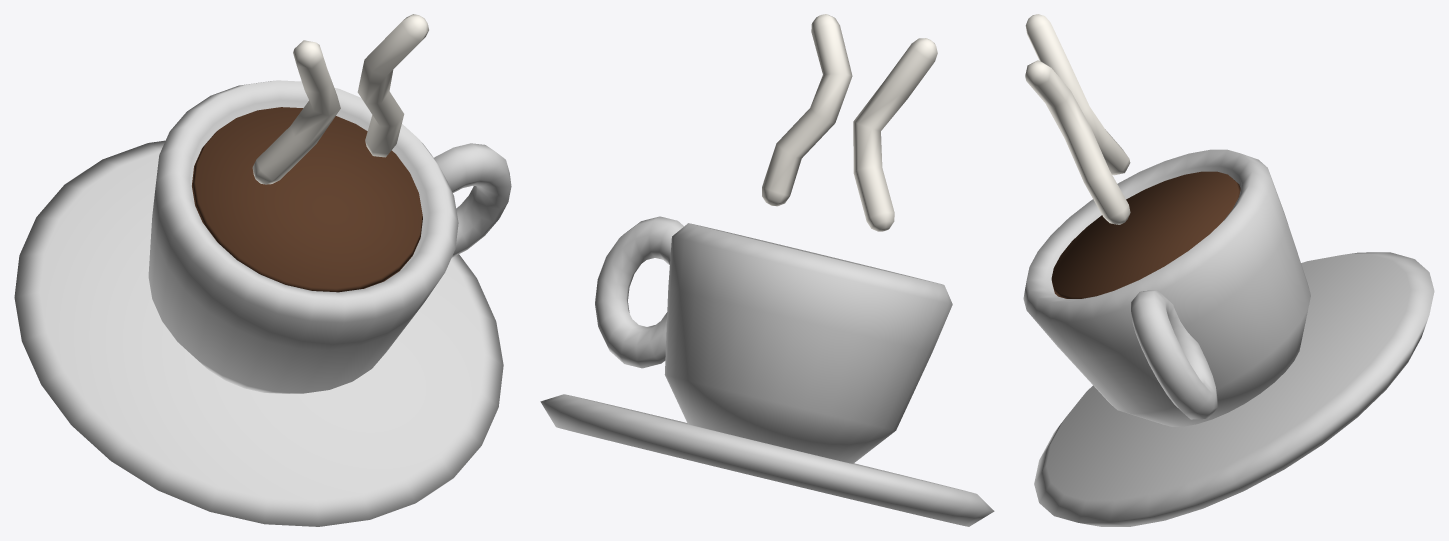
File: coffee.glb
3 renders of one model, left to right at view 1: azimuth 30°, elevation 25°; view 2: azimuth 150°, elevation 25°; view 3: azimuth 270°, elevation 25°, orthographic. The views are drawn at different scales.
Parts seen in each view (by area): view 1: coffee; view 2: coffee; view 3: coffee.
Boxes of the visible parts, left/top/right/bottom form: coffee: left=14, top=14, right=511, bottom=526; coffee: left=540, top=14, right=994, bottom=526; coffee: left=1023, top=14, right=1434, bottom=526.
Size of the model in its own units: 0.9136 by 1 by 0.8281.
